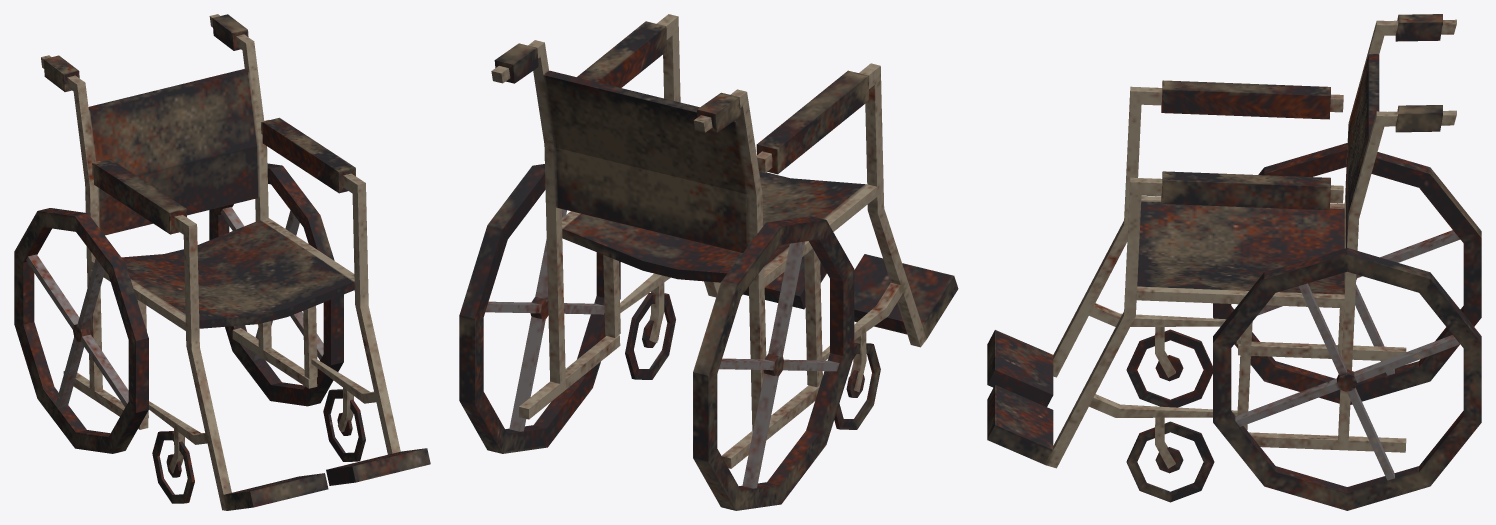
Rendered from wheelchair.fbx.
The picture shows the model from 3 angles, left to right: view 1: azimuth 30°, elevation 25°; view 2: azimuth 150°, elevation 25°; view 3: azimuth 270°, elevation 25°; orthographic projection. The views are drawn at different scales.
Visible parts, largest first — view 1: wheelchair; view 2: wheelchair; view 3: wheelchair.
Boxes of the visible parts, bbox=[...] form: wheelchair: bbox=[14, 14, 430, 510]; wheelchair: bbox=[459, 14, 958, 510]; wheelchair: bbox=[987, 14, 1481, 510].
Bounding box in the file's own units: 48.18 × 78.73 × 90.02.
Materials: 1 (1 with a texture image).
